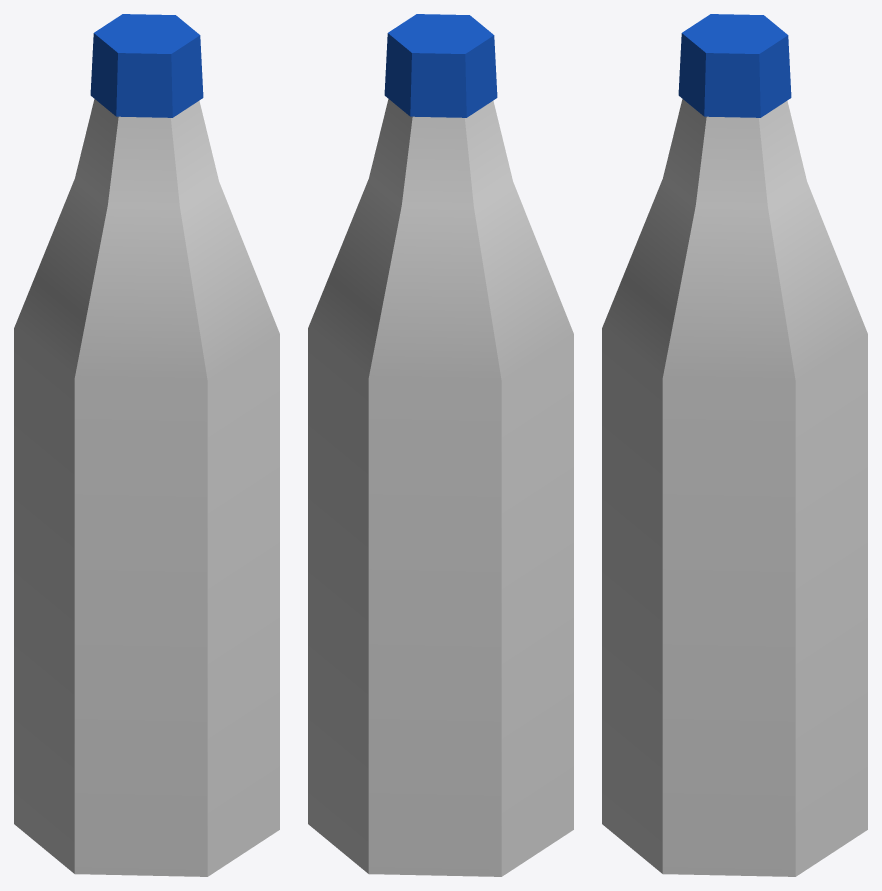
File: BotellaLeche.fbx
3 renders of one model, left to right at view 1: azimuth 30°, elevation 25°; view 2: azimuth 150°, elevation 25°; view 3: azimuth 270°, elevation 25°, orthographic.
Visible parts, largest first — view 1: BotellaLeche; view 2: BotellaLeche; view 3: BotellaLeche.
Boxes of the visible parts, box(x1,y1,x2,y2) form: BotellaLeche: box(14, 14, 279, 876); BotellaLeche: box(308, 14, 573, 876); BotellaLeche: box(602, 14, 867, 876).
Bounding box in the file's own units: 0.0562 × 0.2072 × 0.063.
